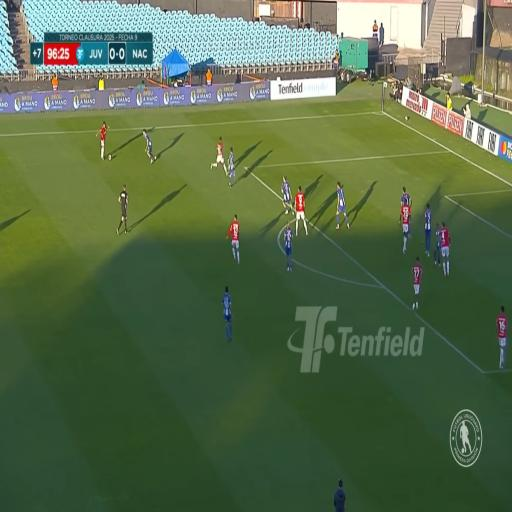Ball: (100, 118, 108, 160), (107, 152, 114, 163)
Player: (333, 179, 349, 229), (221, 286, 233, 342), (294, 184, 306, 240), (496, 304, 506, 370), (412, 256, 424, 307), (214, 136, 226, 175), (230, 210, 240, 256), (422, 206, 431, 256), (282, 173, 292, 217), (440, 220, 448, 275), (286, 222, 294, 274), (143, 128, 155, 162), (403, 199, 411, 248), (402, 180, 408, 235), (435, 221, 441, 269), (228, 150, 235, 188)
Referee: (117, 182, 130, 236)
